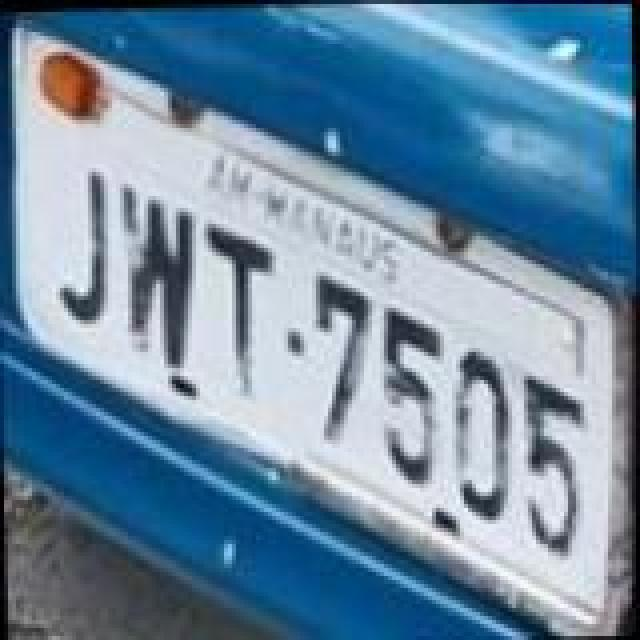5: (370, 294, 446, 486), (520, 366, 592, 562)
7: (310, 264, 378, 444)
J: (50, 168, 110, 320)
O: (450, 342, 514, 522)
T: (198, 216, 278, 400)
W: (114, 172, 198, 368)
